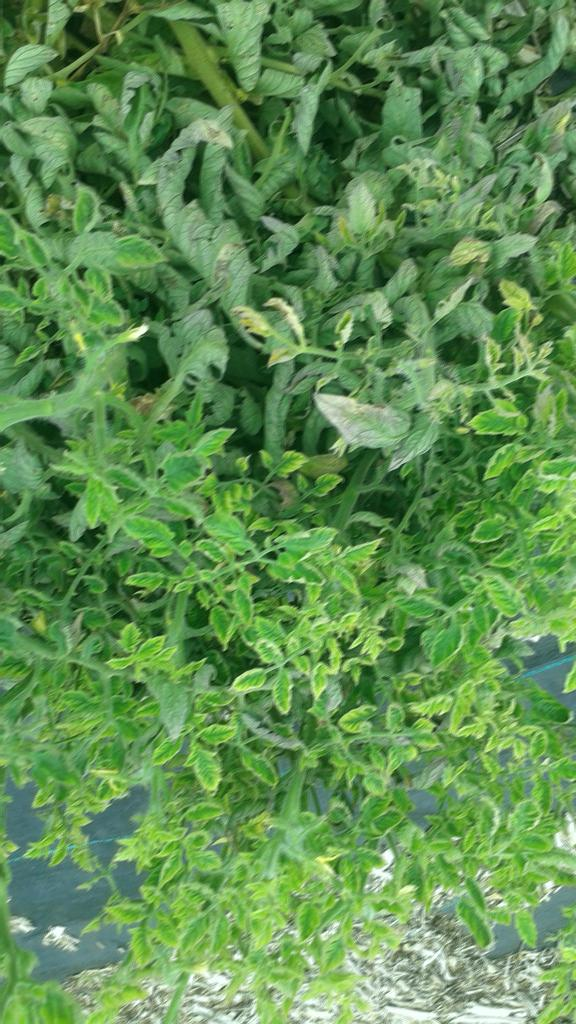Tomato leaf yellow virus: (117, 509, 187, 562), (158, 441, 223, 492), (473, 565, 528, 622), (456, 794, 500, 862), (183, 417, 242, 463), (467, 397, 534, 437), (200, 511, 262, 553), (422, 610, 461, 672), (452, 902, 504, 947), (149, 715, 190, 771), (80, 455, 106, 532), (460, 509, 514, 546), (185, 738, 222, 791), (178, 909, 214, 960), (279, 552, 328, 589), (176, 829, 221, 869), (279, 524, 341, 553), (479, 442, 522, 481), (387, 586, 437, 619), (340, 533, 387, 567), (154, 852, 190, 895), (330, 561, 366, 603), (307, 472, 360, 500), (407, 688, 456, 718), (524, 715, 551, 768), (128, 916, 152, 972), (505, 798, 541, 835), (270, 668, 298, 715), (200, 716, 242, 747), (294, 900, 324, 942), (268, 450, 310, 479), (348, 842, 394, 868), (229, 582, 258, 623), (510, 909, 541, 947), (131, 632, 170, 661), (207, 605, 231, 652), (339, 700, 372, 734), (256, 633, 289, 667), (230, 662, 269, 690), (306, 661, 332, 701), (178, 799, 224, 821), (363, 766, 389, 798)
